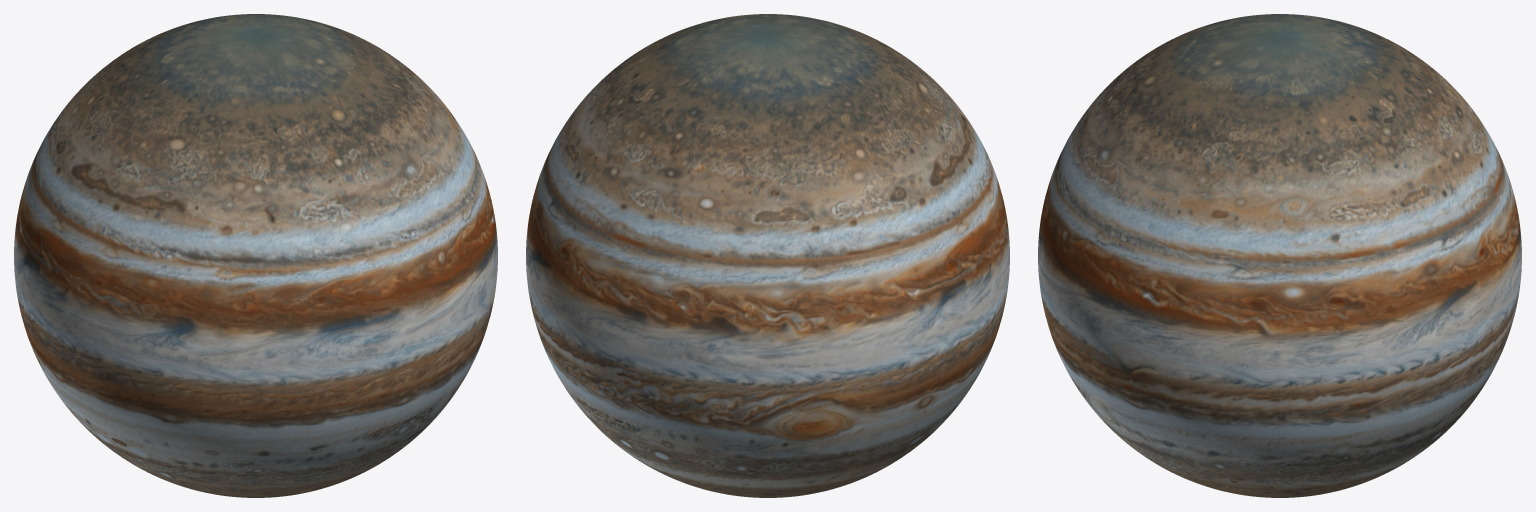
3 views of the same model, side by side, from view 1: azimuth 30°, elevation 25°; view 2: azimuth 150°, elevation 25°; view 3: azimuth 270°, elevation 25° (orthographic).
Parts seen in each view (by area): view 1: Geode; view 2: Geode; view 3: Geode.
Part boxes in pixels (x1,y1,x2,y2): Geode: (14,14,497,497); Geode: (526,14,1009,497); Geode: (1038,14,1521,497).
Size of the model in its own units: 200 by 200 by 200.
